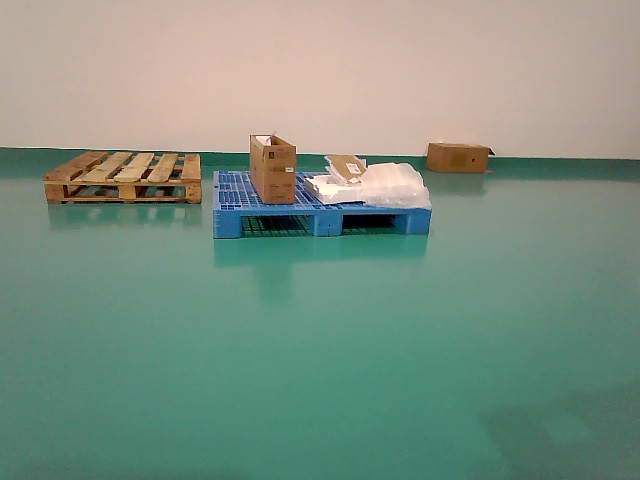block: (313, 211, 343, 238), (404, 210, 432, 238), (214, 210, 242, 236)
front: (212, 210, 431, 239)
hole pallet: (241, 213, 316, 238), (343, 214, 408, 236)
